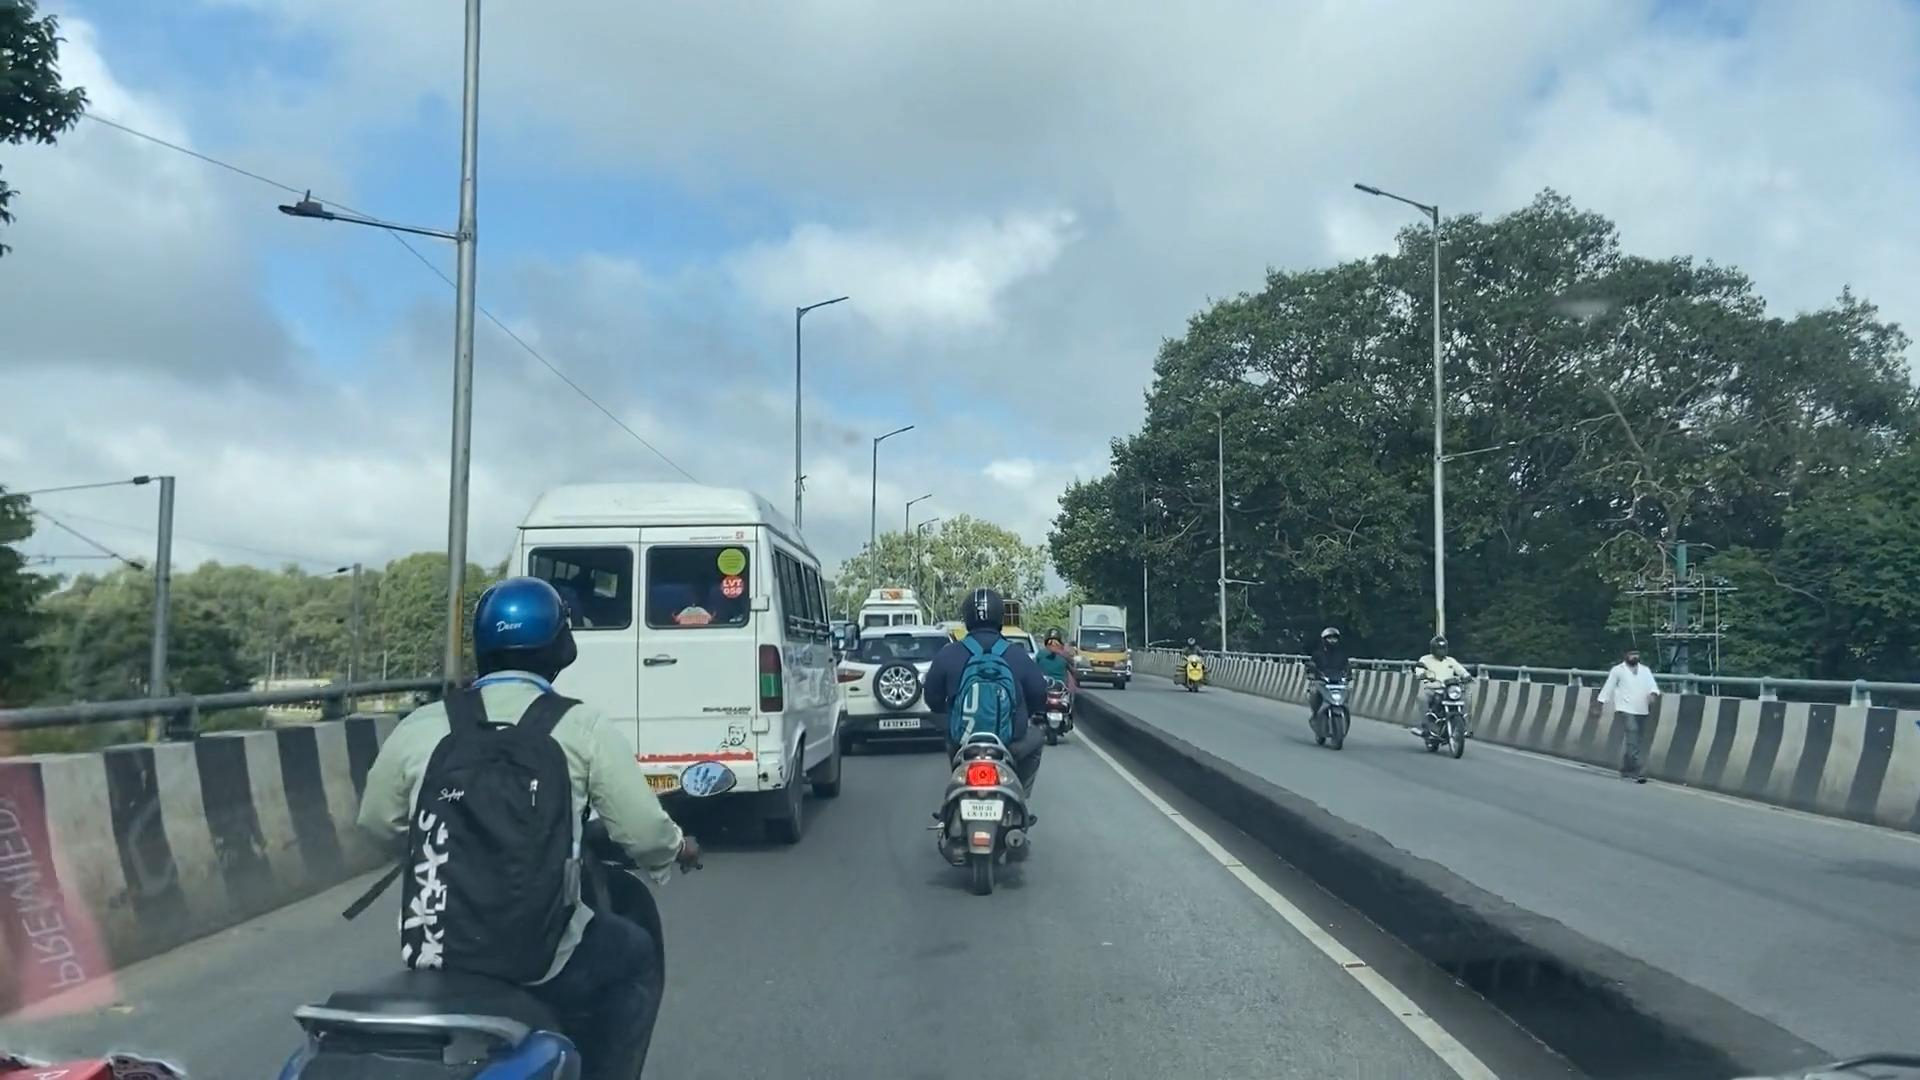LMV: (913, 588, 1039, 916), (1033, 630, 1065, 737)
